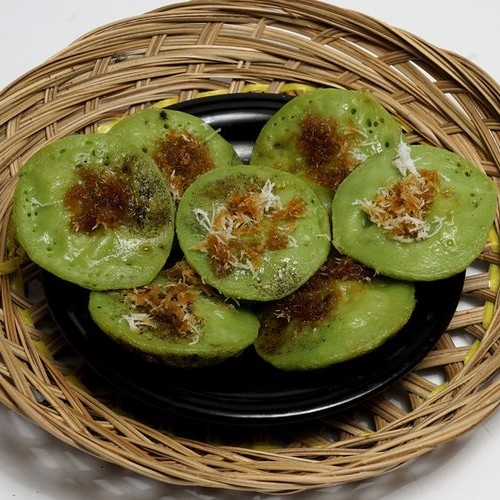laklak: (107, 131, 417, 345)
